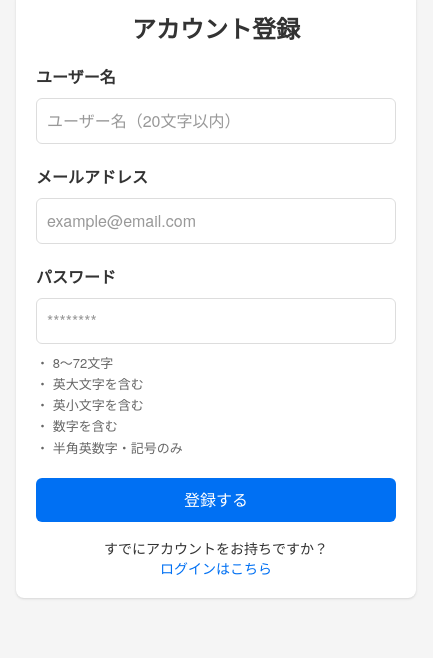
アカウント登録画面 › サーバーエラーの場合は signup が返したエラーを表示する
Step 1. Type "taro" into the field labelled "ユーザー名" → x=216, y=121, box 36,98 -> 396,144
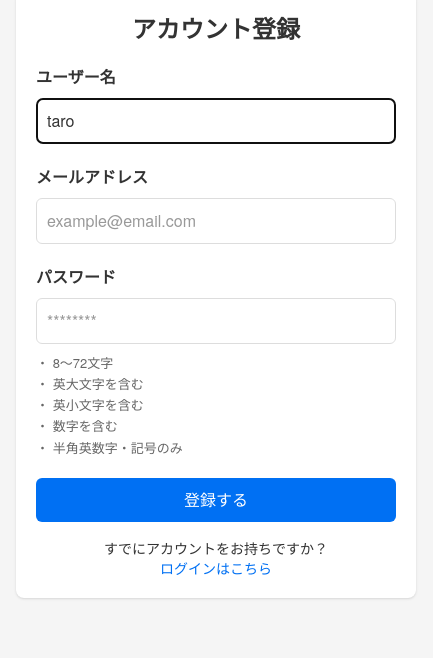
Step 2. Type "taro@example.com" into the field labelled "メールアドレス" → x=216, y=221, box 36,198 -> 396,244
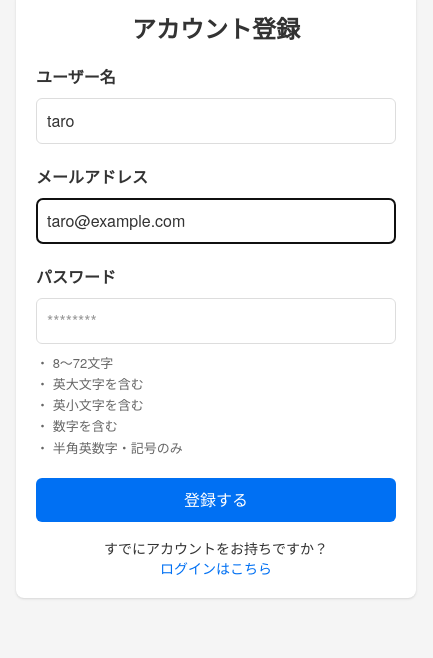
Step 3. Type "Password123" into the password field labelled "パスワード" → x=216, y=321, box 36,298 -> 396,344
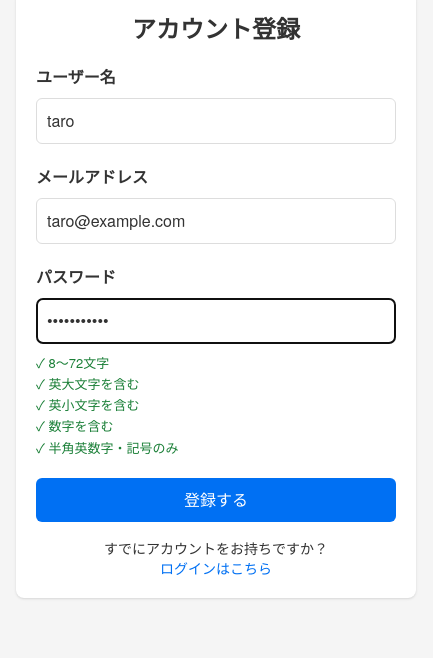
Step 4. Click the button "登録する" → x=216, y=500, box 36,478 -> 396,522
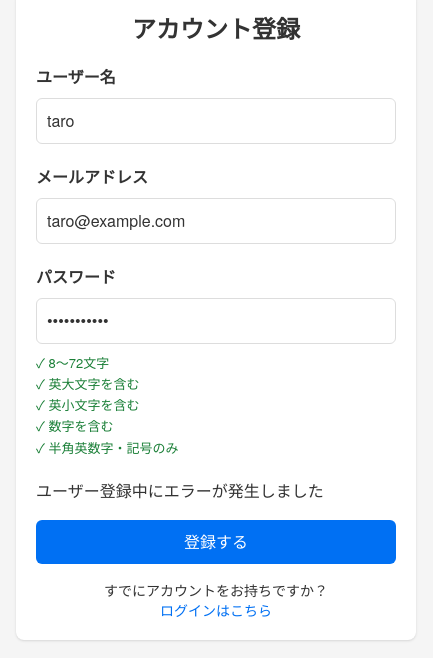
Check: the text "ユーザー登録中にエラーが発生しました" is shown, box 36,479 -> 324,502
